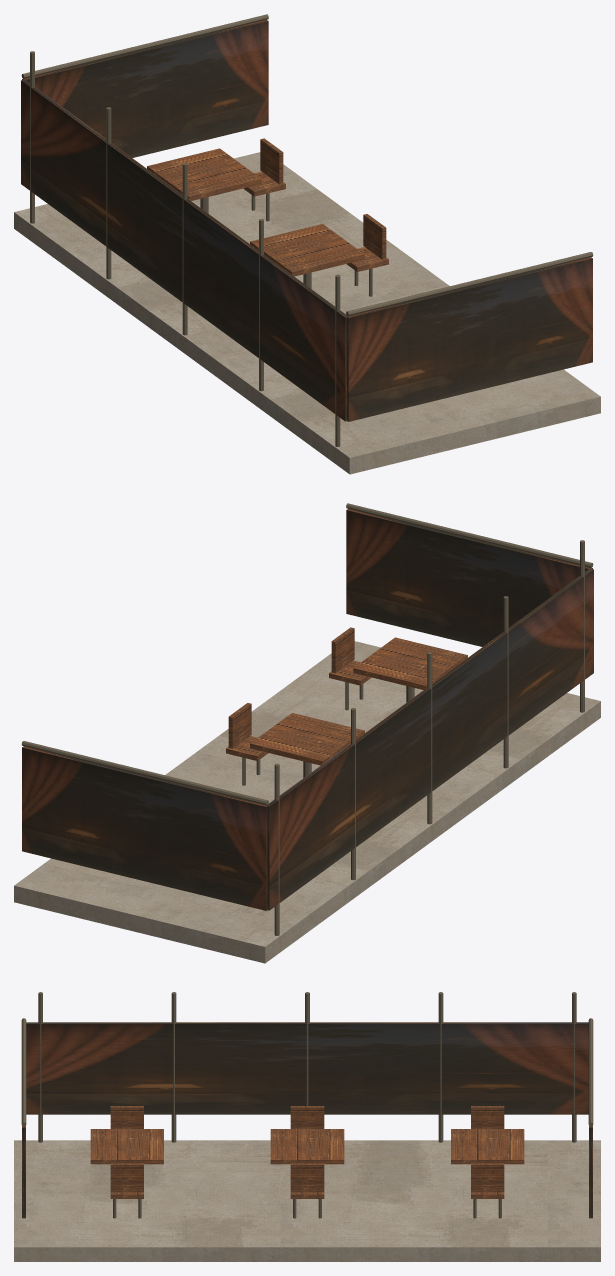
The model's file is restaurant_terrace.glb.
3 views of the same model, one above another, from view 1: azimuth 30°, elevation 25°; view 2: azimuth 150°, elevation 25°; view 3: azimuth 270°, elevation 25° (orthographic). The views are drawn at different scales.
Parts seen in each view (by area): view 1: restaurant_terrace; view 2: restaurant_terrace; view 3: restaurant_terrace.
Boxes of the visible parts, x1=… form: restaurant_terrace: x1=14, y1=14, x2=600, y2=474; restaurant_terrace: x1=14, y1=503, x2=600, y2=963; restaurant_terrace: x1=14, y1=992, x2=600, y2=1261.
Bounding box in the file's own units: 3.8 × 2.7 × 8.8.
4 materials, 3 textured.
